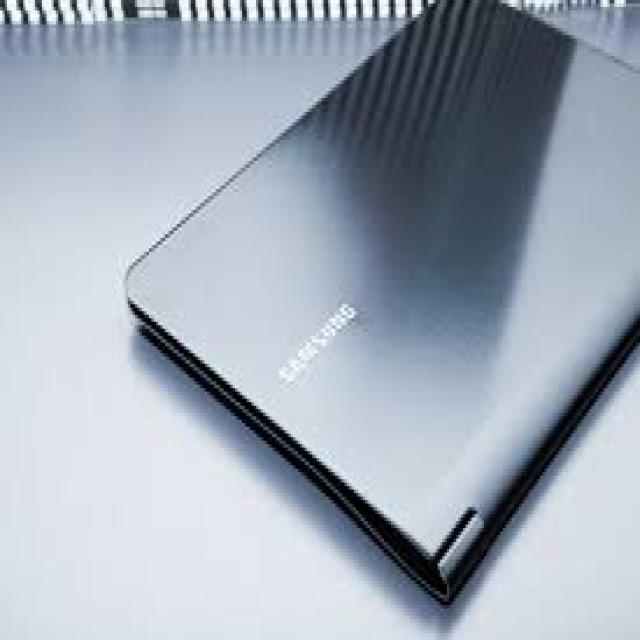laptop: (121, 0, 638, 605)
